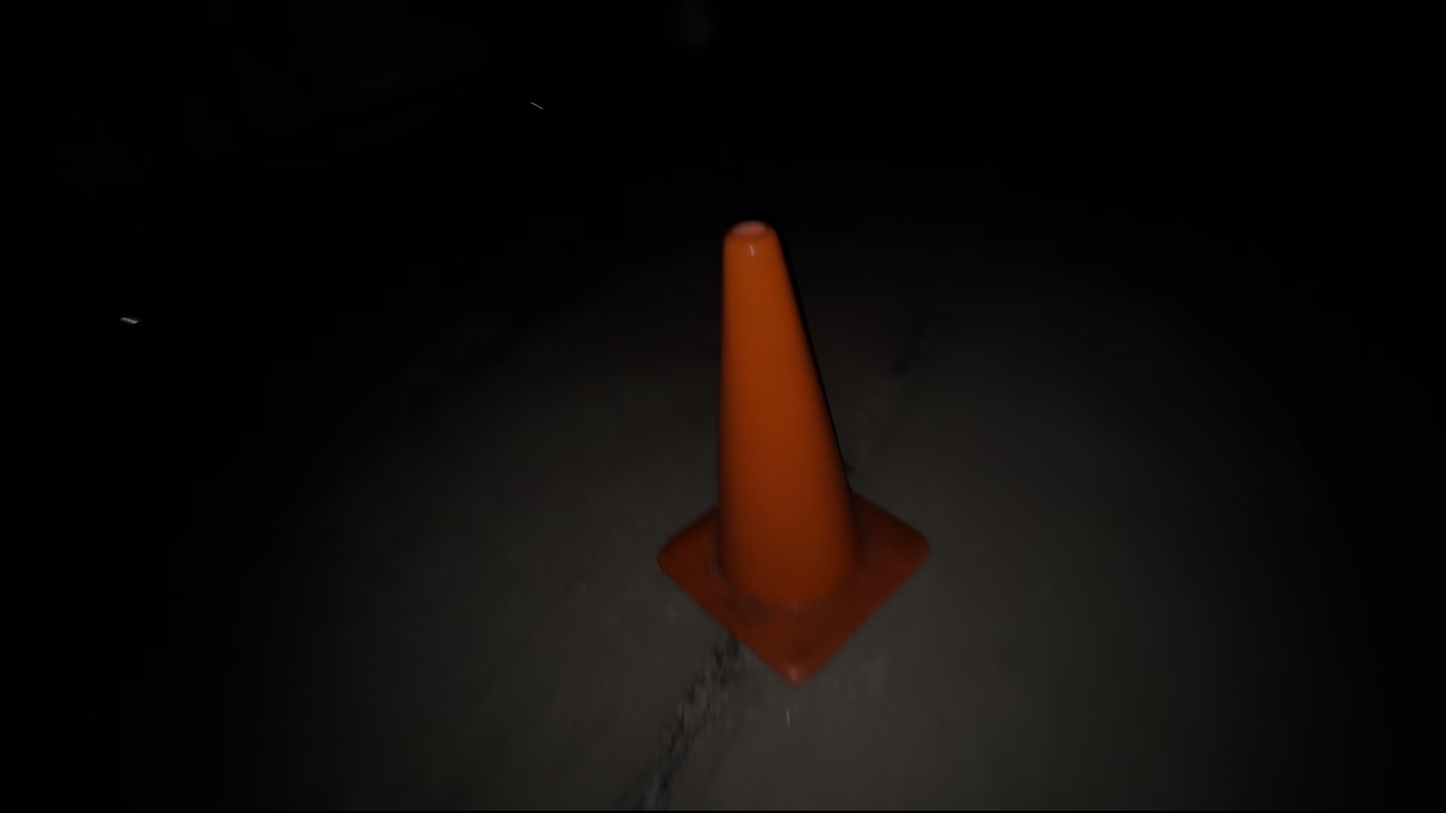traffic_cone: (656, 219, 931, 684)
